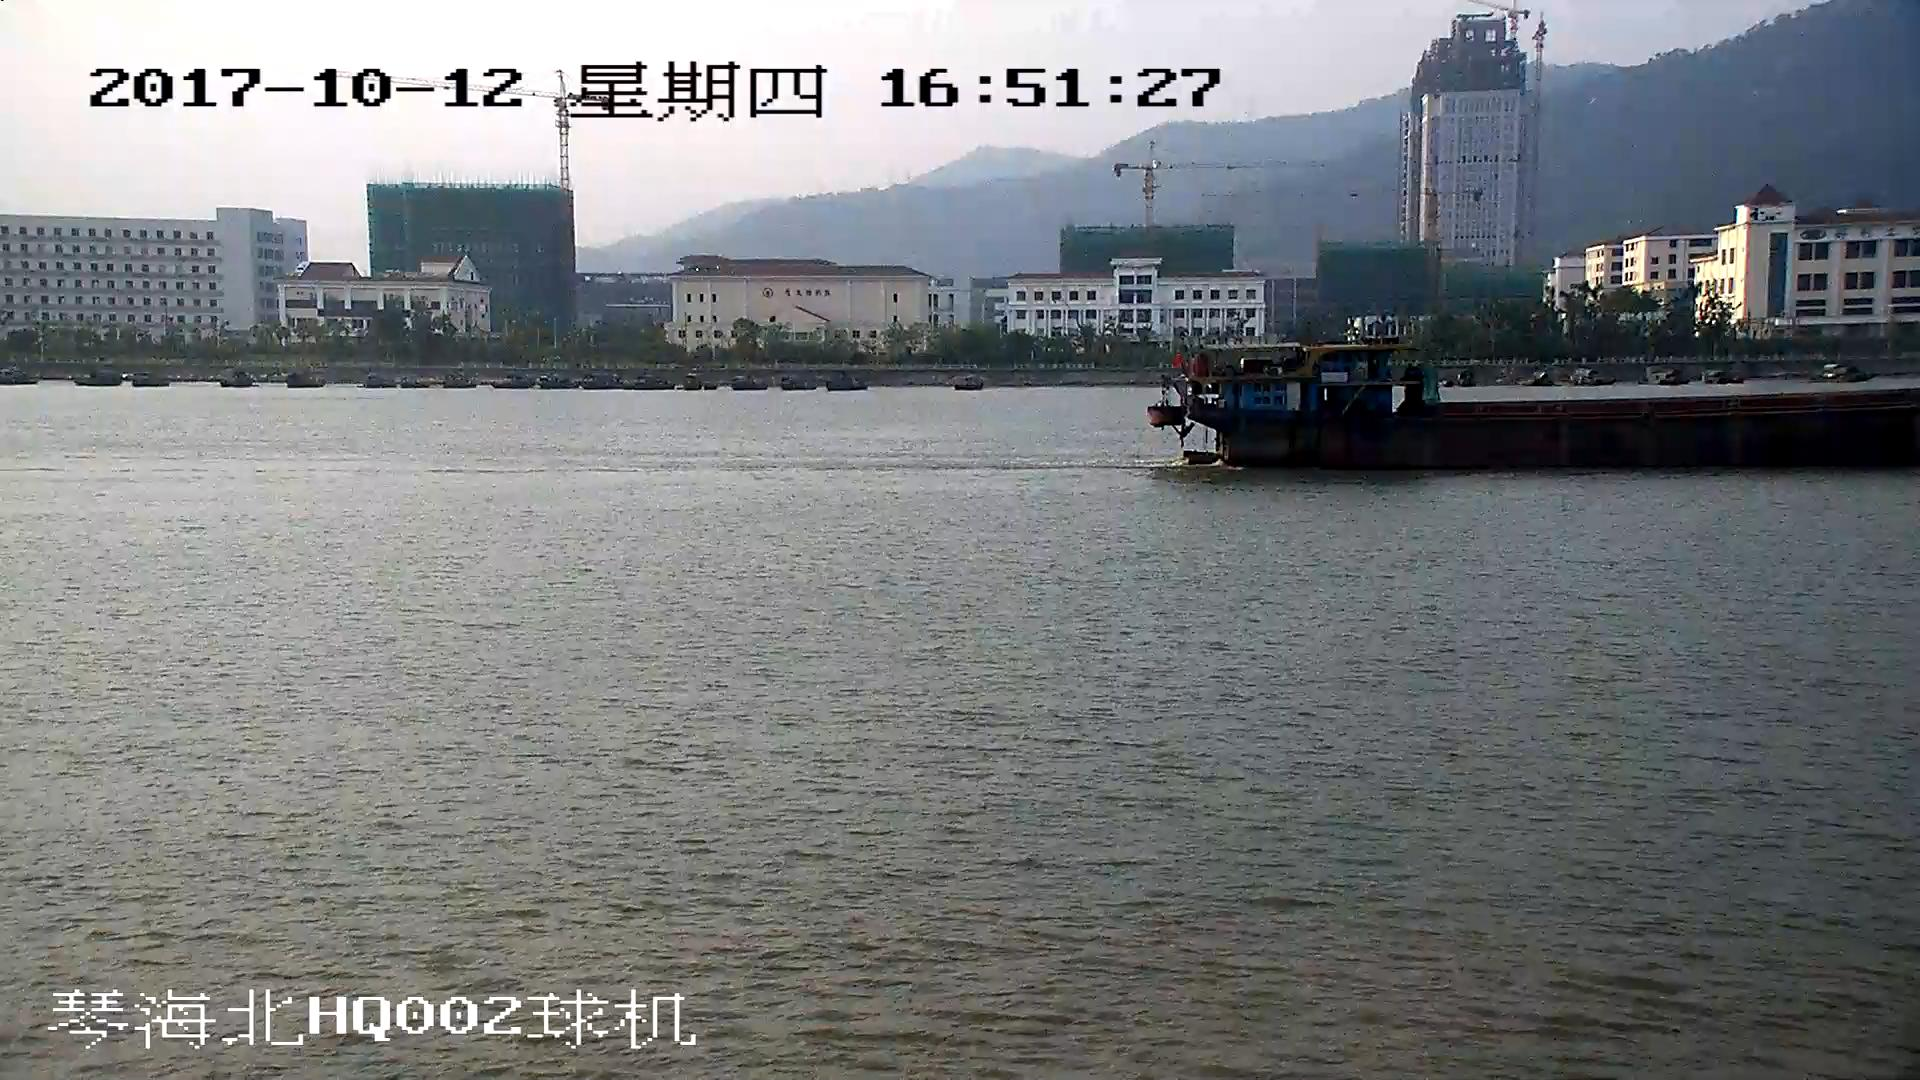bulk cargo carrier: (1141, 348, 1920, 479)
